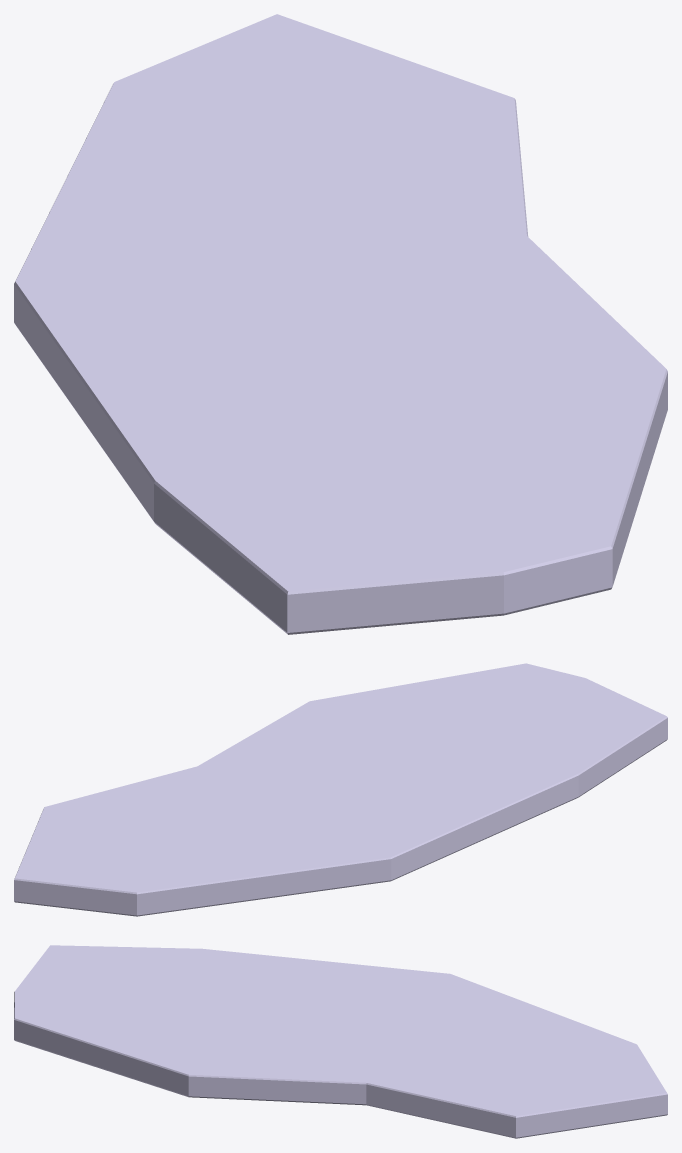
The model's file is QAT.glb.
3 views of the same model, one above another, from view 1: azimuth 30°, elevation 25°; view 2: azimuth 150°, elevation 25°; view 3: azimuth 270°, elevation 25° (orthographic). The views are drawn at different scales.
Size of the model in its own units: 1.11 by 0.068 by 1.79.
